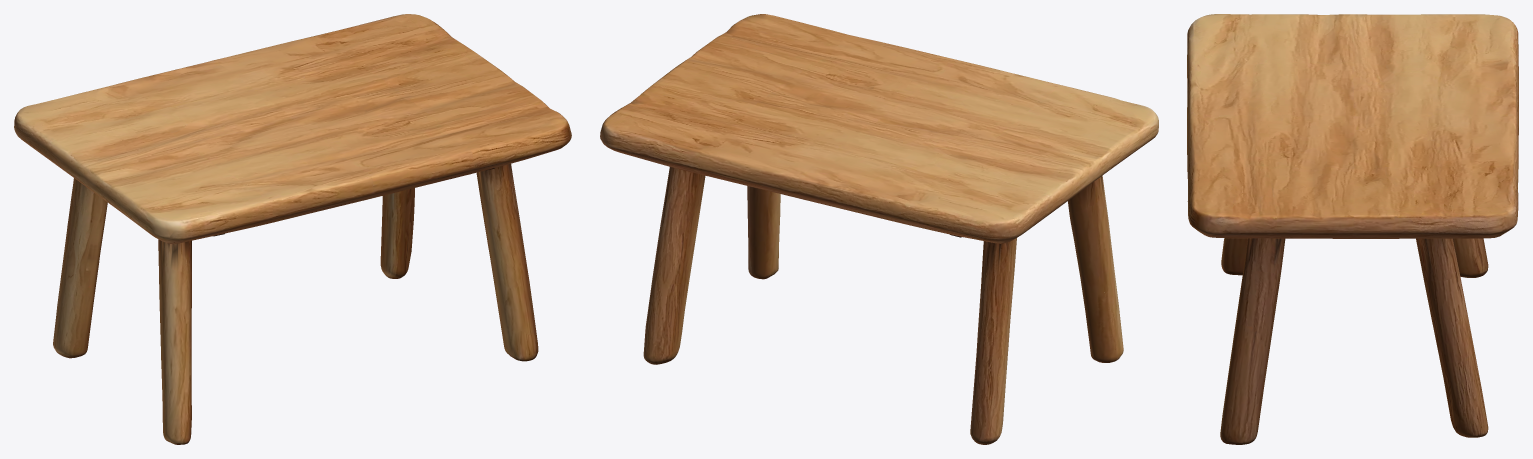
File: desk_natural.glb
3 renders of one model, left to right at view 1: azimuth 30°, elevation 25°; view 2: azimuth 150°, elevation 25°; view 3: azimuth 270°, elevation 25°, orthographic.
Parts seen in each view (by area): view 1: tripo_node_33e09c30-178d-4fca-8b11-5cd0079e1b0d; view 2: tripo_node_33e09c30-178d-4fca-8b11-5cd0079e1b0d; view 3: tripo_node_33e09c30-178d-4fca-8b11-5cd0079e1b0d.
Part boxes in pixels (x1,y1,x2,y2): tripo_node_33e09c30-178d-4fca-8b11-5cd0079e1b0d: (14, 14, 571, 444); tripo_node_33e09c30-178d-4fca-8b11-5cd0079e1b0d: (600, 14, 1158, 444); tripo_node_33e09c30-178d-4fca-8b11-5cd0079e1b0d: (1187, 14, 1518, 444).
Size of the model in its own units: 0.978 by 0.5352 by 0.6642.
1 material, 1 textured.
